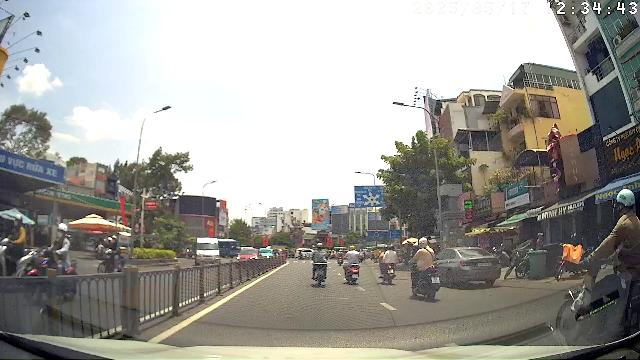303-noi-giao-nhau-chay-theo-vong-xuyen: (373, 231, 380, 238)
